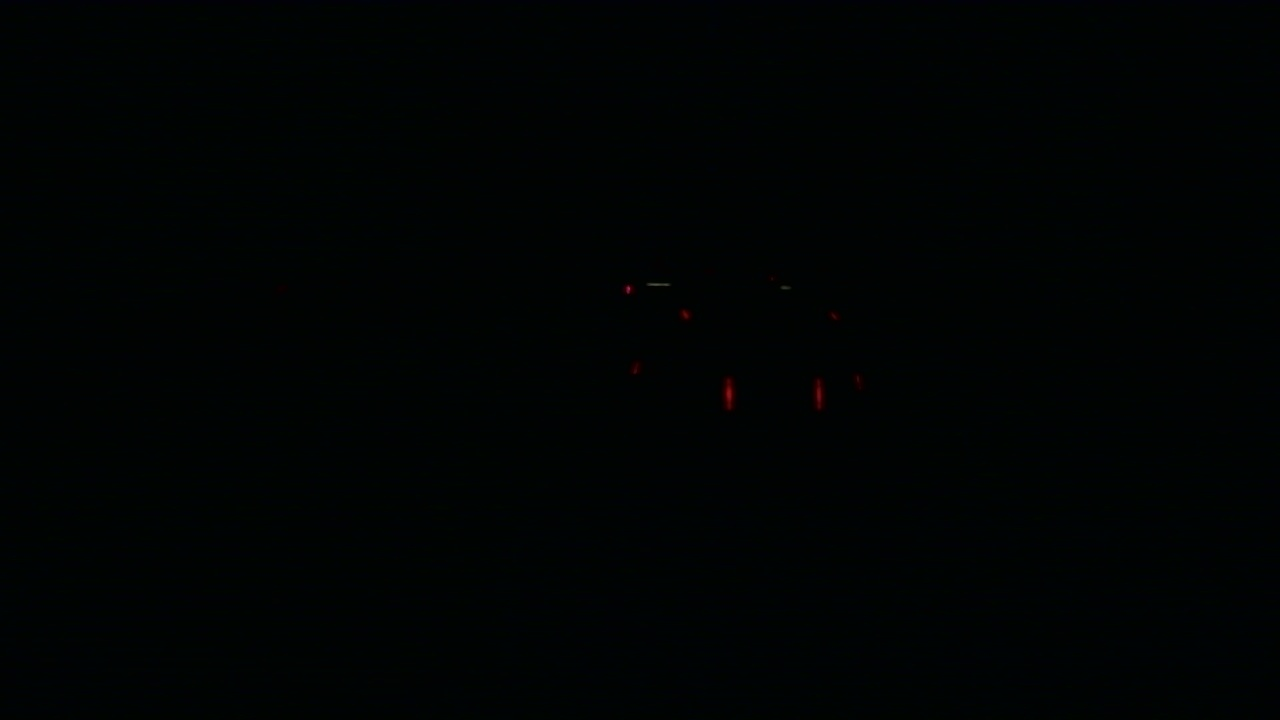lamp: (718, 377, 735, 417), (812, 374, 824, 415)
pair1: (721, 378, 825, 414)
